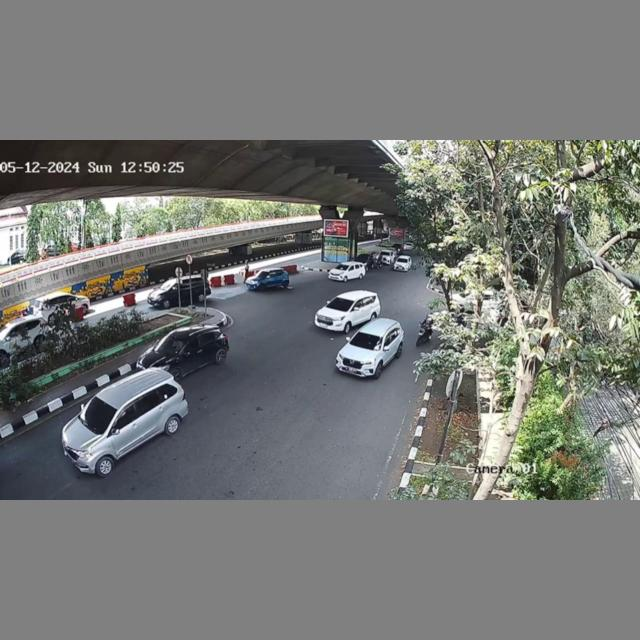windshield: (79, 398, 118, 431), (351, 328, 382, 350), (156, 334, 186, 356), (326, 296, 352, 314)
